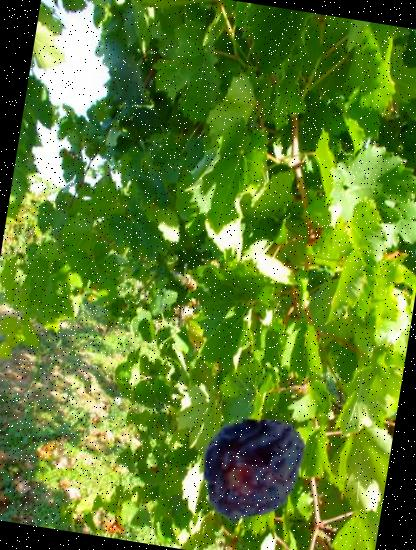Dates: (194, 409, 314, 529)
